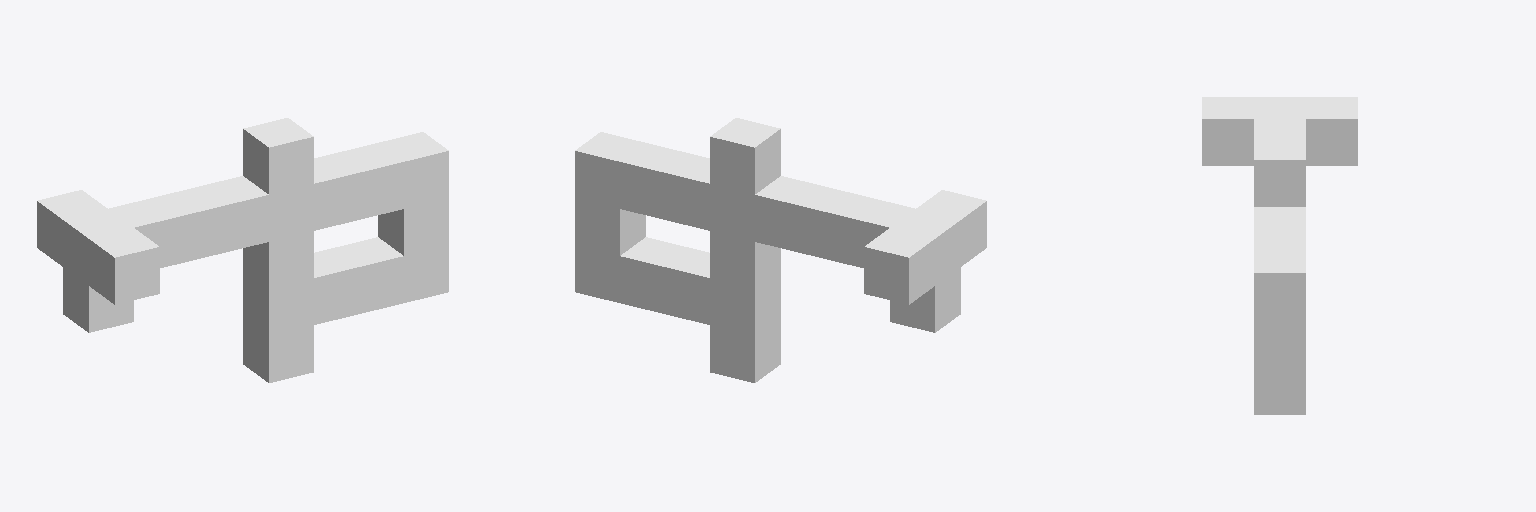
Rendered from TallBuilding03-4.obj.
3 views of the same model, side by side, from view 1: azimuth 30°, elevation 25°; view 2: azimuth 150°, elevation 25°; view 3: azimuth 270°, elevation 25° (orthographic).
Parts seen in each view (by area): view 1: object 1; view 2: object 1; view 3: object 1.
Part boxes in pixels (left/top/right/bottom): object 1: left=37, top=118, right=448, bottom=382; object 1: left=575, top=118, right=986, bottom=382; object 1: left=1202, top=97, right=1357, bottom=414.
Bounding box in the file's own units: 0.8 × 0.5 × 0.3.